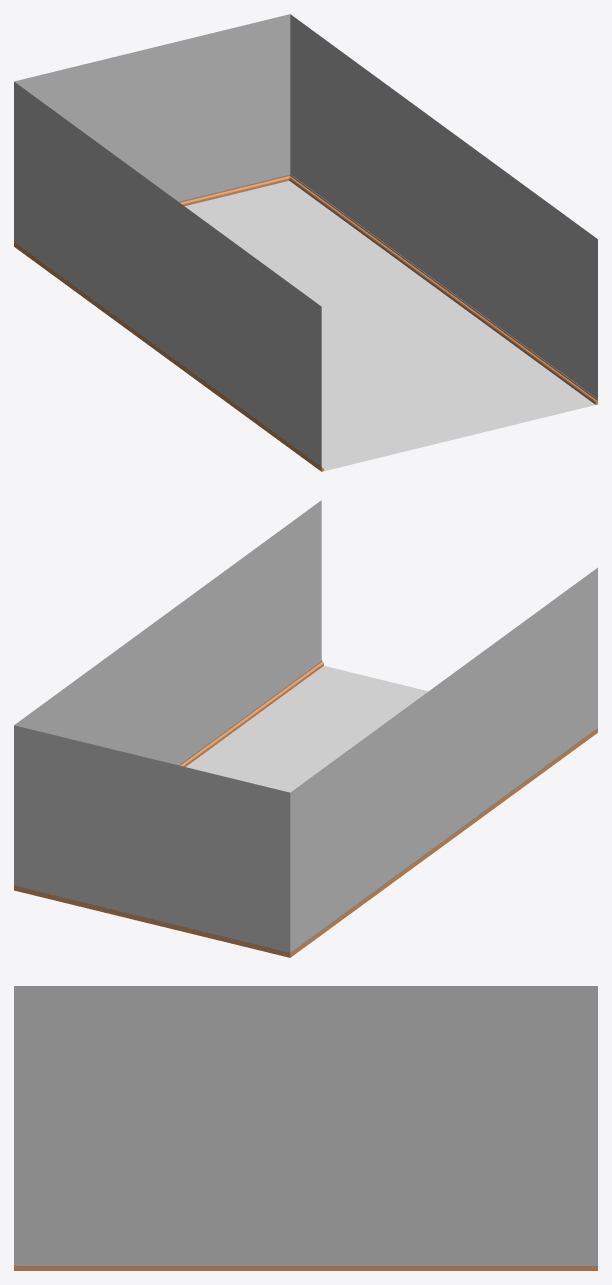
Rendered from Bathroom.fbx.
The picture shows the model from 3 angles, top to bottom: view 1: azimuth 30°, elevation 25°; view 2: azimuth 150°, elevation 25°; view 3: azimuth 270°, elevation 25°; orthographic projection. The views are drawn at different scales.
Parts seen in each view (by area): view 1: Bathroom, Bathroom Trimming; view 2: Bathroom, Bathroom Trimming; view 3: Bathroom, Bathroom Trimming.
Part boxes in pixels (x1,y1,x2,y2): Bathroom: (14,14,597,471); Bathroom Trimming: (14,174,597,471); Bathroom: (14,500,597,952); Bathroom Trimming: (14,660,597,957); Bathroom: (14,986,597,1265); Bathroom Trimming: (14,1266,597,1270).
Size of the model in its own units: 1050 by 600 by 2026.
